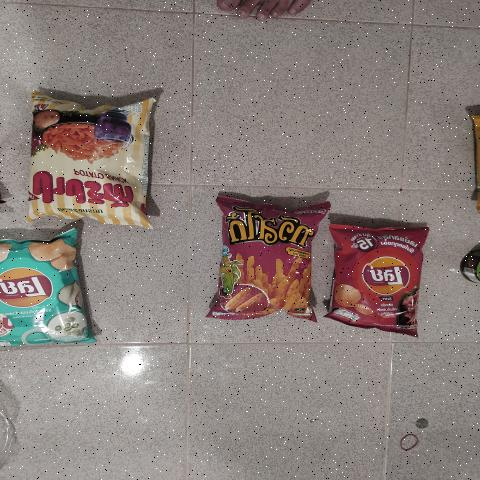lay_blue: (0, 228, 80, 340)
paprika: (38, 101, 155, 208)
twisco: (229, 212, 321, 315)
